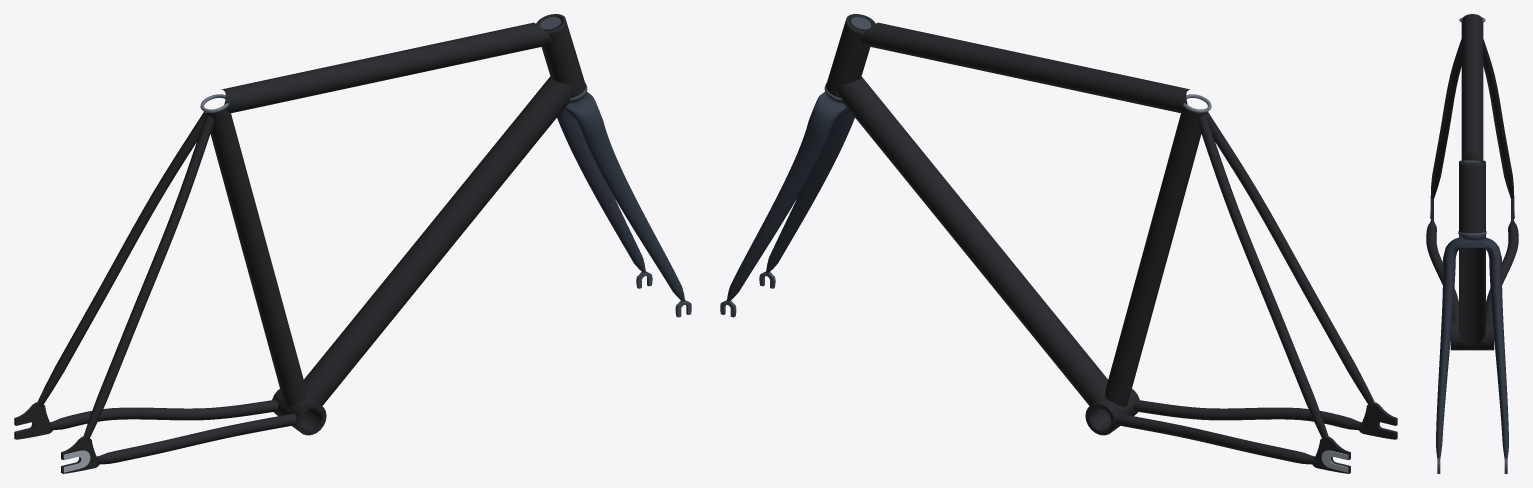
Rendered from dosnoventa-02-la-s.glb.
3 renders of one model, left to right at view 1: azimuth 30°, elevation 25°; view 2: azimuth 150°, elevation 25°; view 3: azimuth 270°, elevation 25°, orthographic. The views are drawn at different scales.
Visible parts, largest first — view 1: paint_down, paint_top, paint_seat, paint_seatstay_1, paint_seatstay_-1, fork_blade_1, paint_chainstay_-1, fork_blade_-1, paint_chainstay_1, paint_head, paint_bottom_bracket, rear_dropout_-1 (+1 smaller); view 2: paint_down, paint_top, paint_seat, paint_seatstay_-1, paint_seatstay_1, fork_blade_-1, paint_chainstay_1, fork_blade_1, paint_chainstay_-1, paint_head, paint_bottom_bracket, rear_dropout_1 (+1 smaller); view 3: paint_top, paint_down, fork_blade_1, fork_blade_-1, paint_head, paint_seatstay_-1, paint_seatstay_1, fork_crown, paint_chainstay_-1, paint_chainstay_1, paint_bottom_bracket, fork_headset_lower.
Boxes of the visible parts, left/top/right/bottom form: paint_down: left=304, top=76, right=575, bottom=405; paint_top: left=221, top=22, right=551, bottom=113; paint_seat: left=205, top=109, right=306, bottom=406; paint_seatstay_1: left=83, top=114, right=213, bottom=437; paint_seatstay_-1: left=36, top=112, right=205, bottom=407; fork_blade_1: left=581, top=121, right=684, bottom=301; paint_chainstay_-1: left=49, top=400, right=277, bottom=430; fork_blade_-1: left=557, top=110, right=645, bottom=272; paint_chainstay_1: left=95, top=413, right=296, bottom=464; paint_head: left=536, top=14, right=585, bottom=97; paint_bottom_bracket: left=272, top=389, right=326, bottom=435; rear_dropout_-1: left=14, top=402, right=52, bottom=439; paint_down: left=836, top=76, right=1107, bottom=405; paint_top: left=860, top=22, right=1190, bottom=113; paint_seat: left=1105, top=109, right=1206, bottom=406; paint_seatstay_-1: left=1198, top=114, right=1328, bottom=437; paint_seatstay_1: left=1206, top=112, right=1375, bottom=407; fork_blade_-1: left=727, top=121, right=830, bottom=301; paint_chainstay_1: left=1134, top=400, right=1362, bottom=430; fork_blade_1: left=766, top=110, right=854, bottom=272; paint_chainstay_-1: left=1115, top=413, right=1316, bottom=464; paint_head: left=826, top=14, right=875, bottom=97; paint_bottom_bracket: left=1085, top=389, right=1139, bottom=435; rear_dropout_1: left=1359, top=402, right=1397, bottom=439; paint_top: left=1461, top=14, right=1483, bottom=160; paint_down: left=1459, top=236, right=1485, bottom=346; fork_blade_1: left=1436, top=258, right=1455, bottom=458; fork_blade_-1: left=1489, top=258, right=1508, bottom=458; paint_head: left=1459, top=159, right=1485, bottom=233; paint_seatstay_-1: left=1483, top=39, right=1513, bottom=199; paint_seatstay_1: left=1431, top=39, right=1461, bottom=198; fork_crown: left=1443, top=237, right=1501, bottom=259; paint_chainstay_-1: left=1486, top=219, right=1518, bottom=320; paint_chainstay_1: left=1426, top=219, right=1458, bottom=320; paint_bottom_bracket: left=1450, top=321, right=1494, bottom=350; fork_headset_lower: left=1458, top=231, right=1486, bottom=240.
Size of the model in its own units: 0.9783 by 0.5226 by 0.1443.
